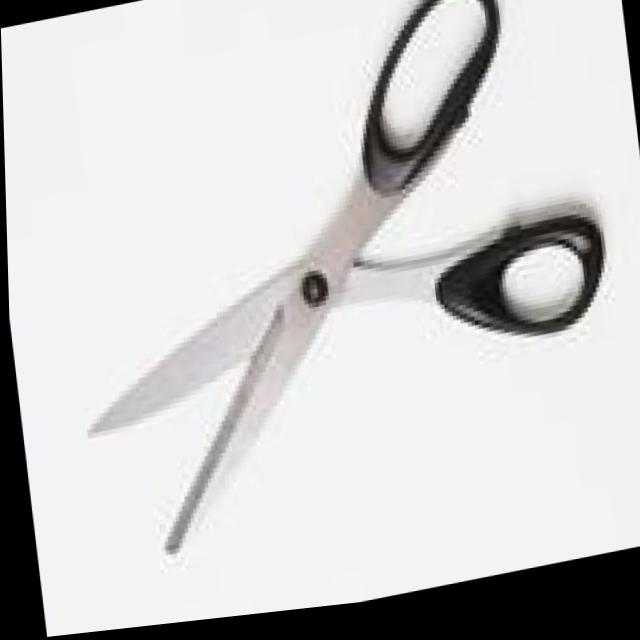scissor: (40, 0, 627, 577)
